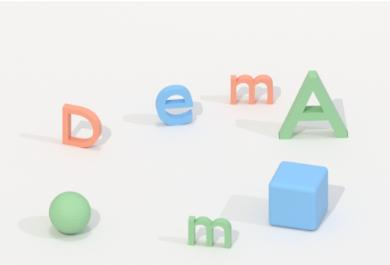0-KhoiVuong: (264, 157, 336, 236)
0-Tron: (47, 189, 96, 239)
A: (279, 65, 350, 143)
D: (60, 98, 104, 153)
e: (153, 80, 198, 130)
m: (185, 212, 236, 251), (227, 70, 277, 109)
